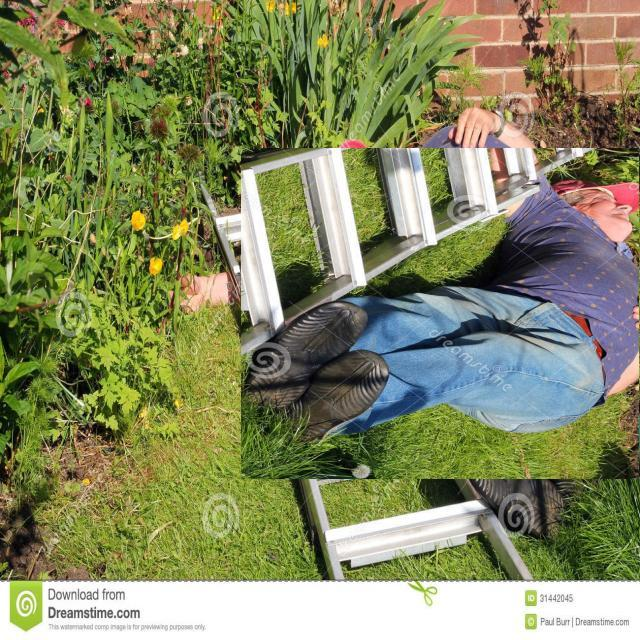Fall: (246, 143, 640, 468)
